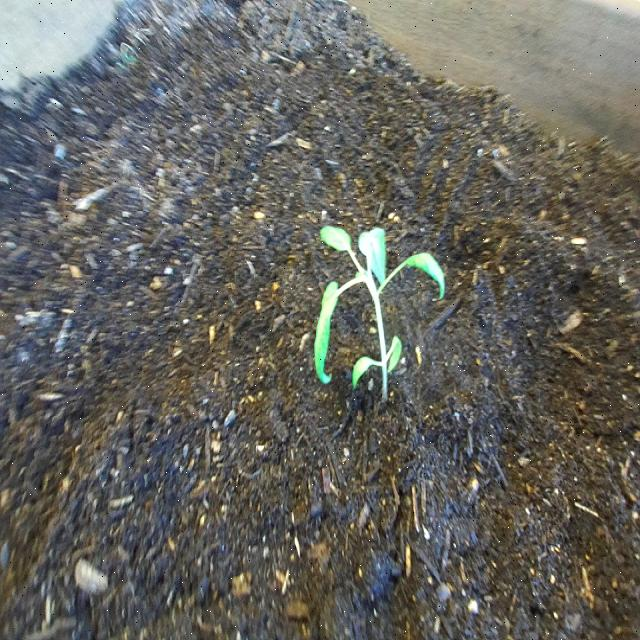Healthy: (310, 212, 449, 412)
